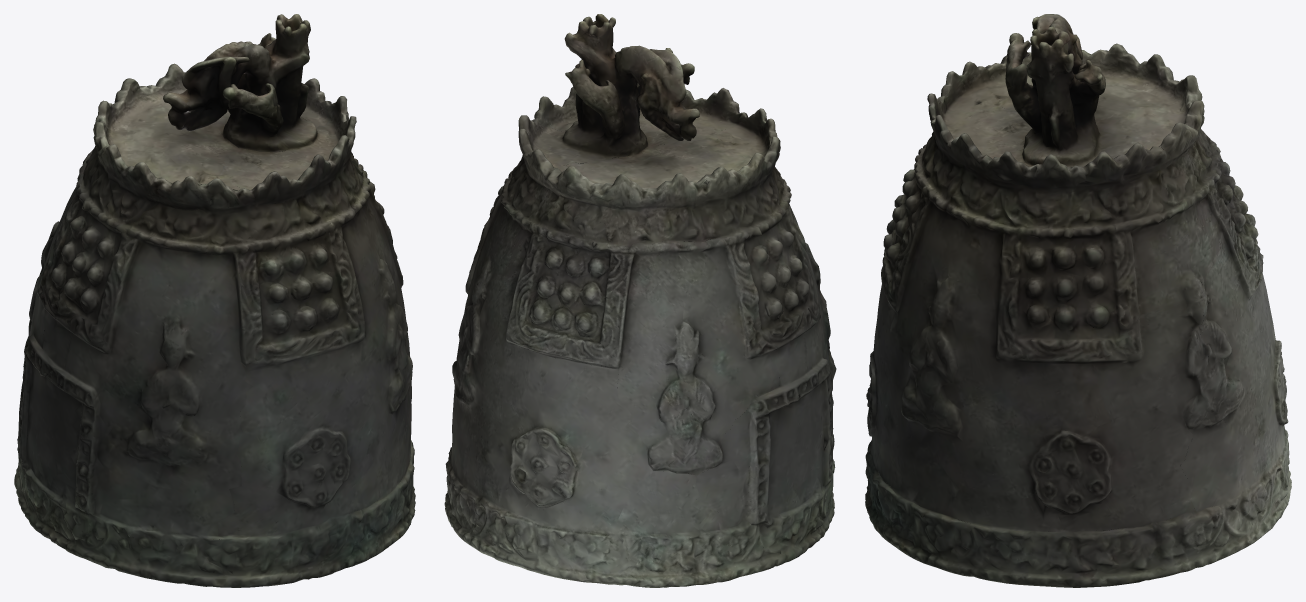
The model's file is bell.glb.
3 renders of one model, left to right at view 1: azimuth 30°, elevation 25°; view 2: azimuth 150°, elevation 25°; view 3: azimuth 270°, elevation 25°, orthographic. The views are drawn at different scales.
Visible parts, largest first — view 1: Model_material0_0; view 2: Model_material0_0; view 3: Model_material0_0.
Part boxes in pixels (box(x1,y1,x2,y2)): Model_material0_0: box(14, 14, 415, 587); Model_material0_0: box(444, 14, 836, 587); Model_material0_0: box(865, 14, 1291, 587).
Bounding box in the file's own units: 1.05 × 1.4 × 1.08.
1 material, 1 textured.
